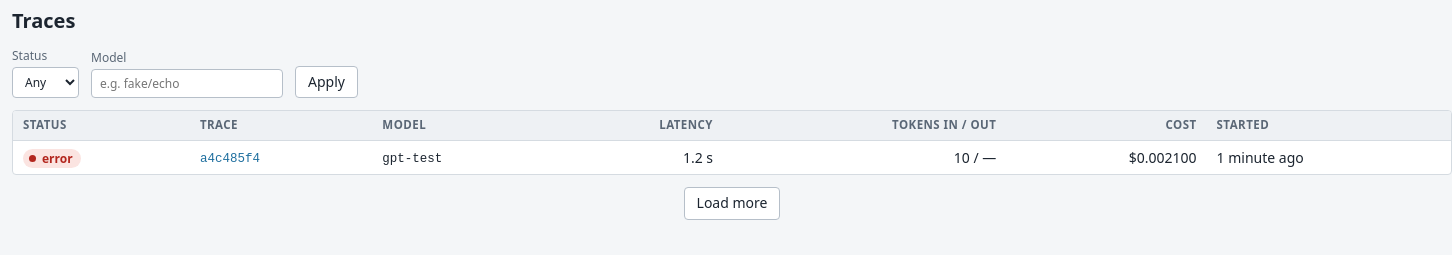
Test: TracesPage › paginates with the cursor
The image size is (1452, 255).
Click the button "Load more" at (732, 203), box [684, 187, 780, 220]
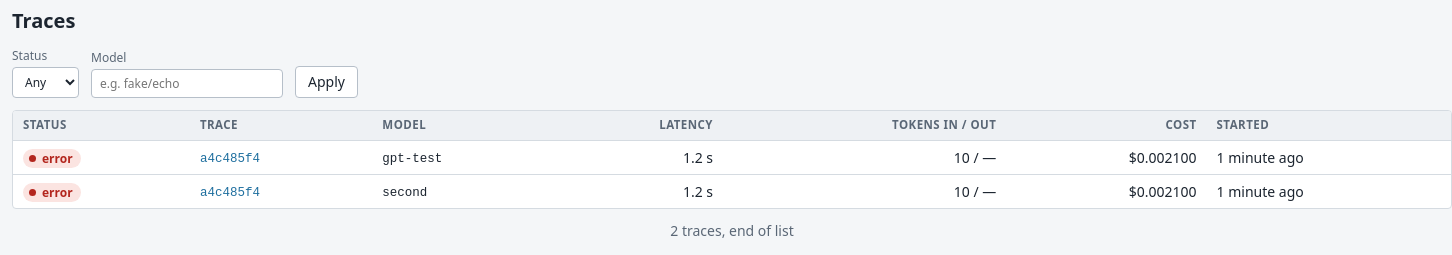
Expected: the text "second" is shown, [382, 186, 427, 200]
